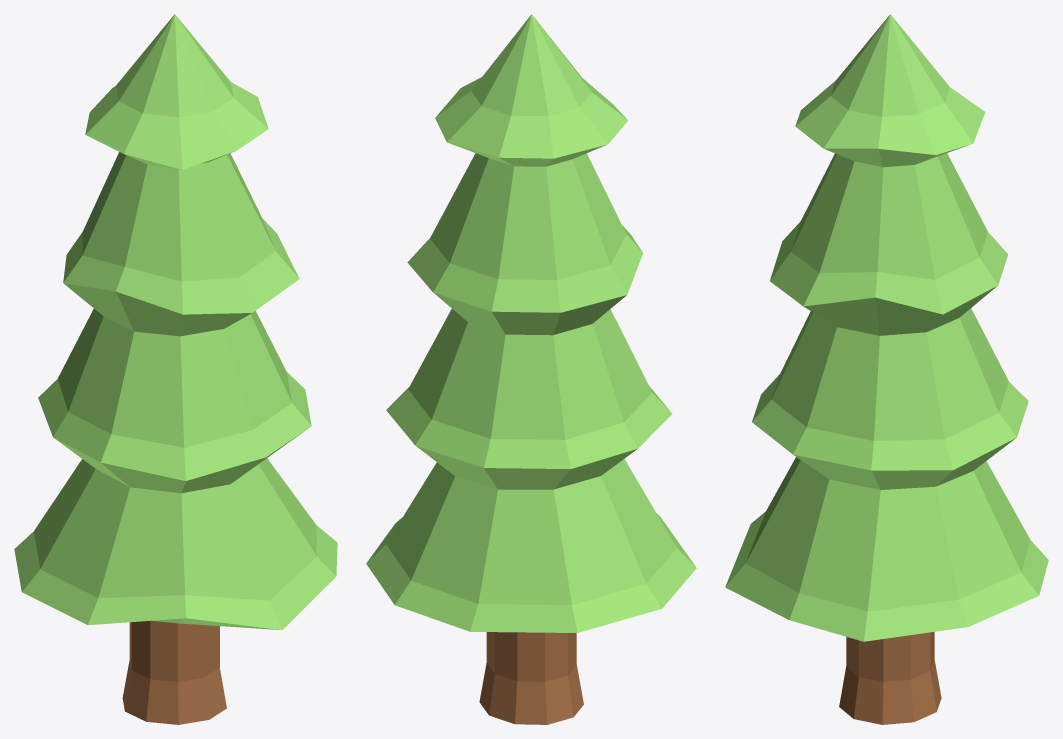
File: Tree3.fbx
3 views of the same model, side by side, from view 1: azimuth 30°, elevation 25°; view 2: azimuth 150°, elevation 25°; view 3: azimuth 270°, elevation 25° (orthographic).
Parts seen in each view (by area): view 1: Tree3; view 2: Tree3; view 3: Tree3.
Part boxes in pixels (x1,y1,x2,y2): Tree3: [14, 14, 337, 724]; Tree3: [366, 14, 696, 724]; Tree3: [725, 14, 1048, 724].
Size of the model in its own units: 277 by 625 by 267.
